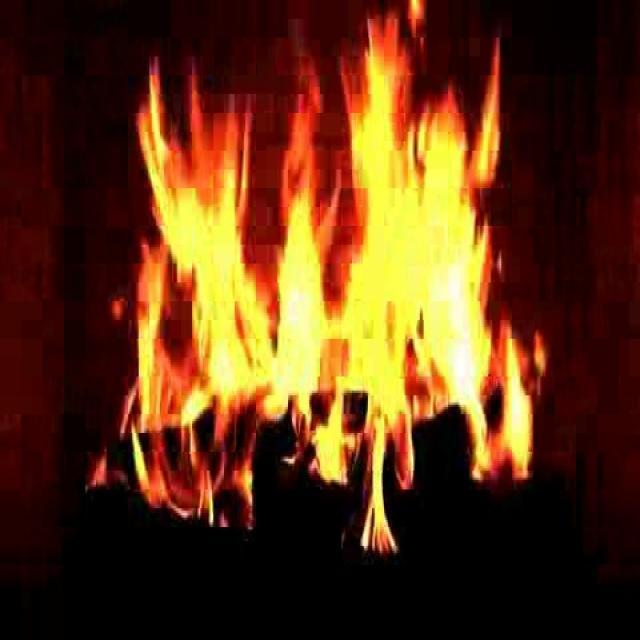Fire: (119, 31, 538, 522)
